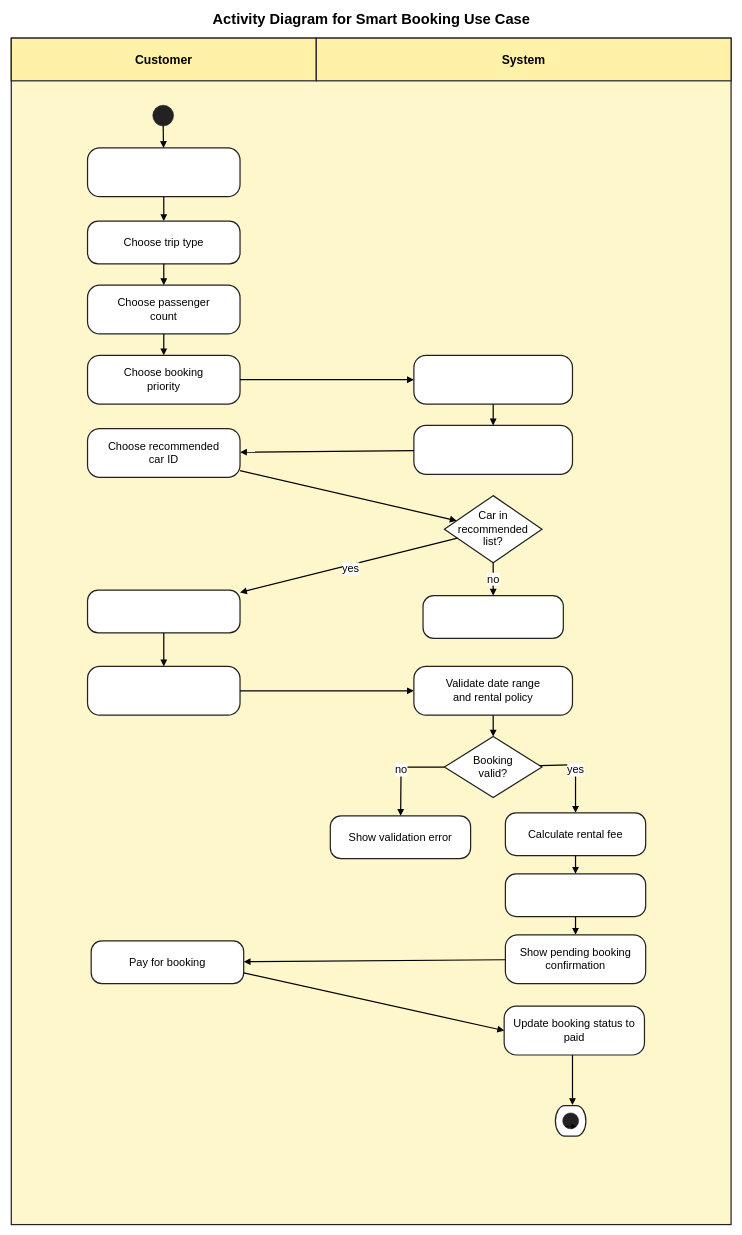
This 742x1235 diagram has some shape labels left out. Here are the shapes that lost their labels. From the top down, the centre of each, then its label:
point 163,172: Open Smart Booking Assistant
point 493,379: Generate recommended cars
point 493,450: Show recommended cars
point 163,611: Enter rental dates
point 493,617: Show selection error
point 163,691: Choose pickup location and insurance
point 575,895: Create pending booking
